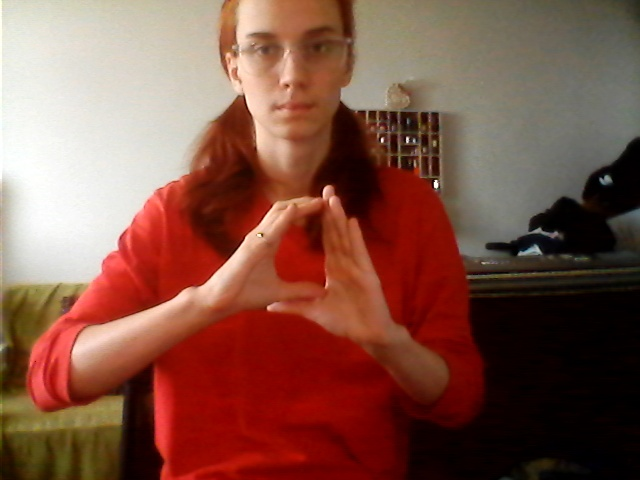d: (229, 182, 391, 350)
